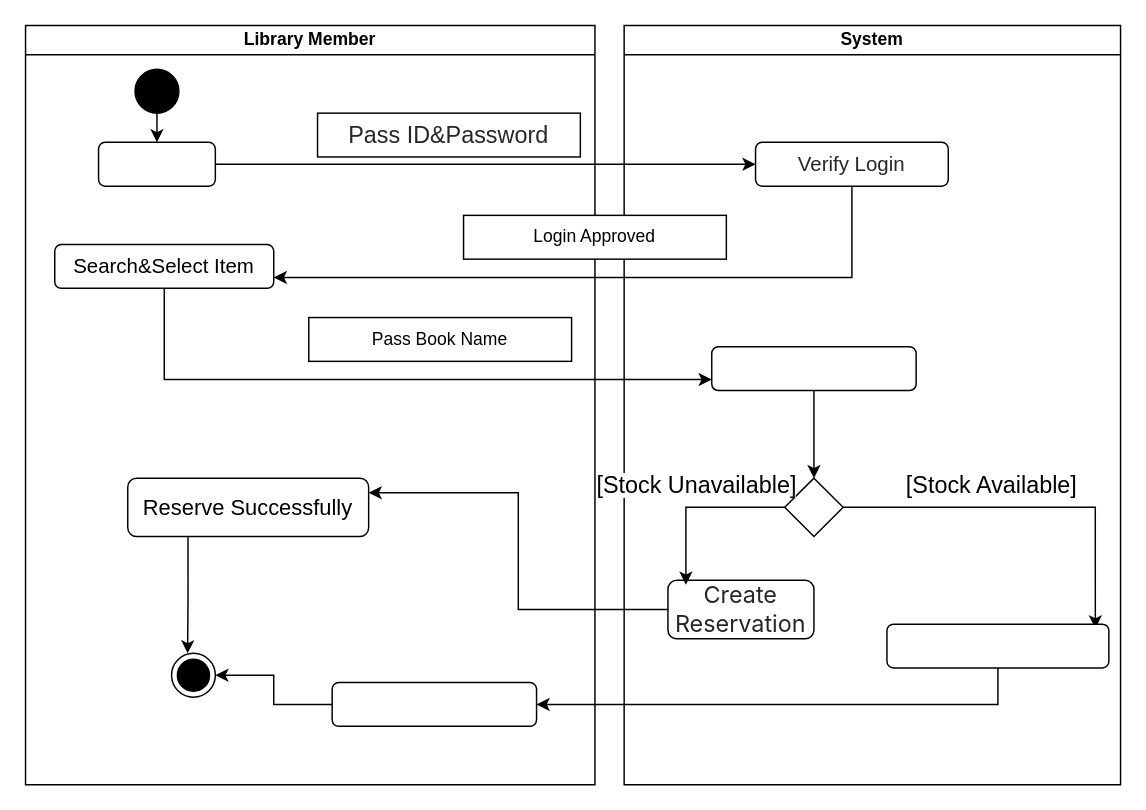
Image size: 1146x810. Some labels were removed from this diagram. Here are the shapes that lost their labels. From the top down, the centre of each, then its label:
At pixel 156 163: "Login".
At pixel 813 368: "Check Stock Status".
At pixel 997 645: "Create Loan Record".
At pixel 434 703: "Borrow Successfully".
